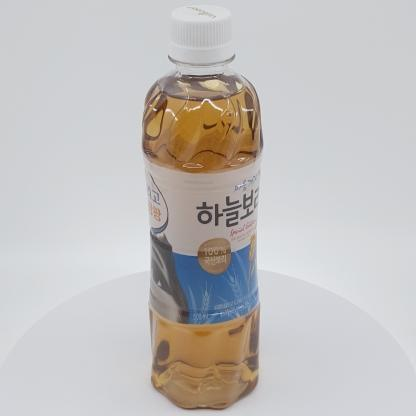------500ML: (141, 4, 264, 408)
